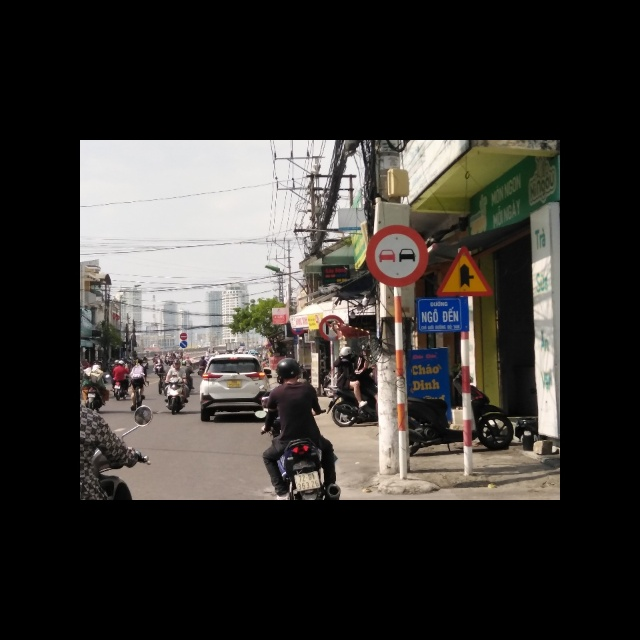Cấm vượt: (365, 223, 430, 286)
Giao nhau với đường không ưu tiên: (437, 245, 494, 298)
